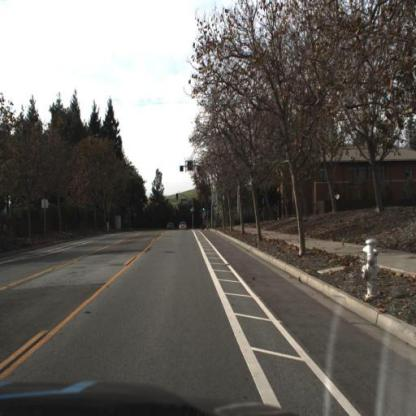biker: (206, 209, 214, 234)
car: (179, 221, 189, 232), (167, 221, 175, 232), (167, 222, 175, 232)
trafficLight: (190, 204, 194, 214)
trafficLight-Green: (201, 203, 206, 213)
trafficLight-GreenLeft: (176, 192, 181, 203)
